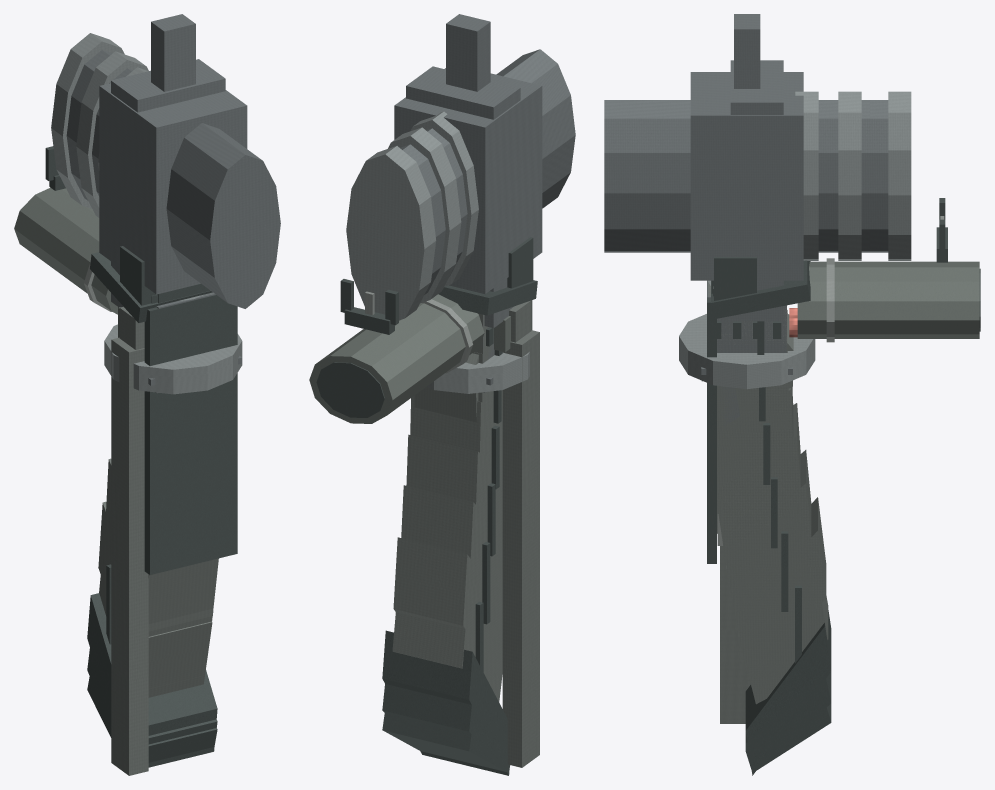
Rendered from weapon_vss.glb.
3 views of the same model, side by side, from view 1: azimuth 30°, elevation 25°; view 2: azimuth 150°, elevation 25°; view 3: azimuth 270°, elevation 25° (orthographic).
Visible parts, largest first — view 1: weapon_vss__L1_stock__vss_poly, weapon_vss__L0_mount_optic__scope6, weapon_vss__L1_mount_optic__scope6, weapon_vss__L0_mount_optic__prism2, weapon_vss__L0_stock__vss_poly, weapon_vss__L1_mount_optic__prism2, weapon_vss__L1_mount__val_mount, weapon_vss__L0_mount__val_mount, weapon_vss__L1_magazine__val_30, weapon_vss__L0_body, weapon_vss__L0_magazine__val_10, weapon_vss__L0_magazine__val_30 (+14 smaller); view 2: weapon_vss__L1_magazine__val_10, weapon_vss__L0_mount_optic__prism2, weapon_vss__L0_magazine__val_10, weapon_vss__L1_mount_optic__scope6, weapon_vss__L0_mount__val_mount, weapon_vss__L0_mount_optic__scope6, weapon_vss__L0_body, weapon_vss__L1_mount__val_mount, weapon_vss__L1_body, weapon_vss__L1_magazine__val_20, weapon_vss__L1_mount_optic__prism2, weapon_vss__L0_magazine__val_20 (+14 smaller); view 3: weapon_vss__L0_mount_optic__prism2, weapon_vss__L1_mount_optic__prism2, weapon_vss__L0_mount_optic__scope6, weapon_vss__L0_magazine__val_10, weapon_vss__L0_body, weapon_vss__L0_magazine__val_20, weapon_vss__L0_mount_optic__scope4, weapon_vss__L1_magazine__val_10, weapon_vss__L0_magazine__val_30, weapon_vss__L1_mount_optic__scope6, weapon_vss__L1_magazine__val_30, weapon_vss__L1_body (+14 smaller).
Boxes of the visible parts, left/top/right/bottom form: weapon_vss__L1_stock__vss_poly: left=120, top=246, right=237, bottom=574; weapon_vss__L0_mount_optic__scope6: left=54, top=33, right=279, bottom=306; weapon_vss__L1_mount_optic__scope6: left=51, top=33, right=280, bottom=308; weapon_vss__L0_mount_optic__prism2: left=76, top=51, right=245, bottom=291; weapon_vss__L0_stock__vss_poly: left=120, top=248, right=236, bottom=560; weapon_vss__L1_mount_optic__prism2: left=76, top=51, right=247, bottom=294; weapon_vss__L1_mount__val_mount: left=111, top=306, right=148, bottom=775; weapon_vss__L0_mount__val_mount: left=111, top=307, right=147, bottom=771; weapon_vss__L1_magazine__val_30: left=87, top=558, right=218, bottom=762; weapon_vss__L0_body: left=14, top=146, right=209, bottom=337; weapon_vss__L0_magazine__val_10: left=88, top=463, right=215, bottom=764; weapon_vss__L0_magazine__val_30: left=88, top=561, right=216, bottom=754; weapon_vss__L1_magazine__val_10: left=382, top=337, right=509, bottom=775; weapon_vss__L0_mount_optic__prism2: left=390, top=74, right=541, bottom=299; weapon_vss__L0_magazine__val_10: left=385, top=351, right=506, bottom=774; weapon_vss__L1_mount_optic__scope6: left=346, top=49, right=575, bottom=320; weapon_vss__L0_mount__val_mount: left=503, top=301, right=539, bottom=763; weapon_vss__L0_mount_optic__scope6: left=347, top=50, right=557, bottom=317; weapon_vss__L0_body: left=310, top=279, right=503, bottom=422; weapon_vss__L1_mount__val_mount: left=502, top=300, right=539, bottom=767; weapon_vss__L1_body: left=309, top=279, right=510, bottom=423; weapon_vss__L1_magazine__val_20: left=382, top=350, right=509, bottom=773; weapon_vss__L1_mount_optic__prism2: left=388, top=68, right=542, bottom=303; weapon_vss__L0_magazine__val_20: left=384, top=350, right=509, bottom=770; weapon_vss__L0_mount_optic__prism2: left=681, top=72, right=860, bottom=277; weapon_vss__L1_mount_optic__prism2: left=680, top=72, right=861, bottom=280; weapon_vss__L0_mount_optic__scope6: left=605, top=91, right=910, bottom=260; weapon_vss__L0_magazine__val_10: left=717, top=321, right=830, bottom=771; weapon_vss__L0_body: left=712, top=198, right=980, bottom=344; weapon_vss__L0_magazine__val_20: left=717, top=353, right=830, bottom=768; weapon_vss__L0_mount_optic__scope4: left=653, top=100, right=838, bottom=252; weapon_vss__L1_magazine__val_10: left=717, top=310, right=831, bottom=775; weapon_vss__L0_magazine__val_30: left=717, top=321, right=830, bottom=768; weapon_vss__L1_mount_optic__scope6: left=604, top=91, right=911, bottom=260; weapon_vss__L1_magazine__val_30: left=717, top=321, right=831, bottom=771; weapon_vss__L1_body: left=711, top=198, right=980, bottom=341.
Bounding box in the file's own units: 1.71 × 10.16 × 4.72.
Materials: 3 (3 with a texture image).
